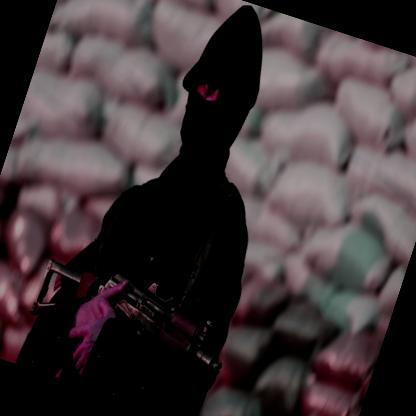rifle: (17, 234, 245, 416)
